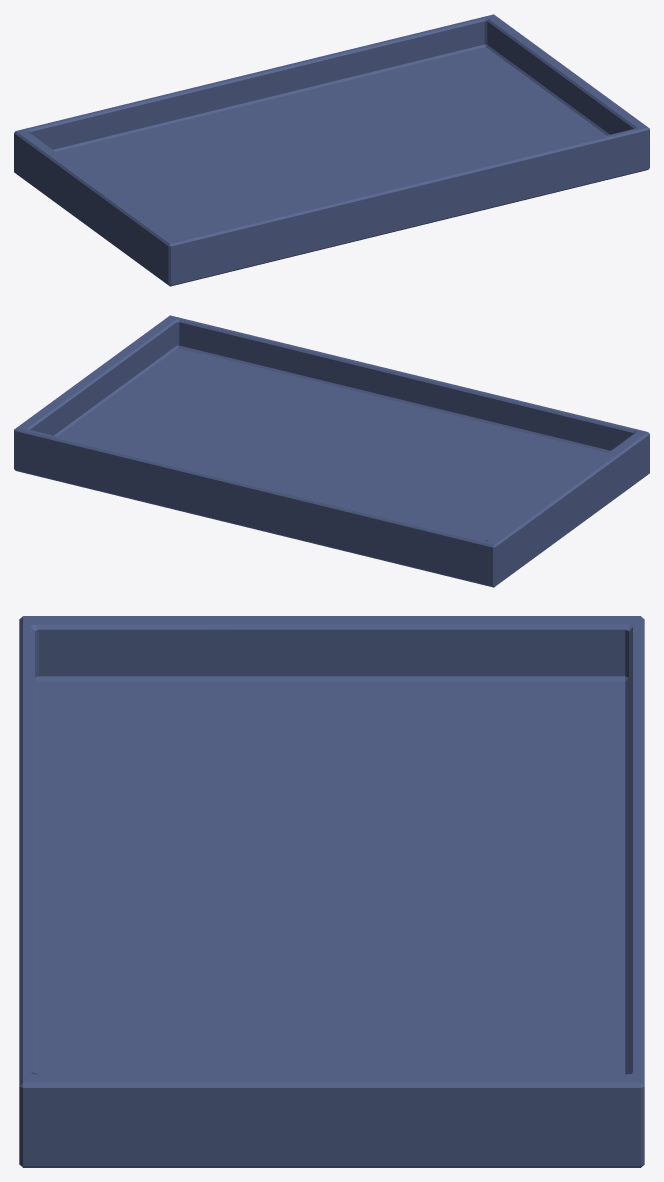
The model's file is Pong_Playground.fbx.
3 renders of one model, top to bottom at view 1: azimuth 30°, elevation 25°; view 2: azimuth 150°, elevation 25°; view 3: azimuth 270°, elevation 25°, orthographic. The views are drawn at different scales.
Parts seen in each view (by area): view 1: Playground; view 2: Playground; view 3: Playground.
Boxes of the visible parts, x1,y1,x2,y2 form: Playground: [14, 14, 649, 286]; Playground: [14, 315, 649, 587]; Playground: [19, 616, 644, 1167].
Size of the model in its own units: 1.6 by 0.1351 by 0.9.
